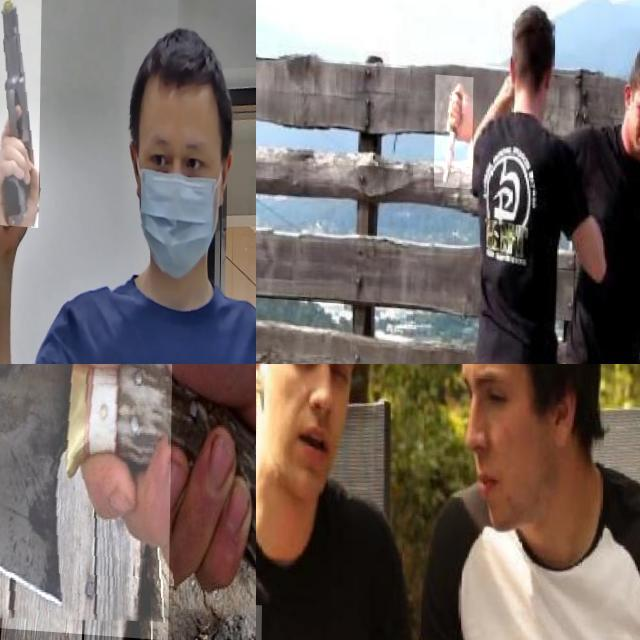-: (0, 364, 246, 632), (434, 72, 474, 186)
gun-knife-thesis - v11 Yolov5 augmented: (0, 0, 42, 223)
